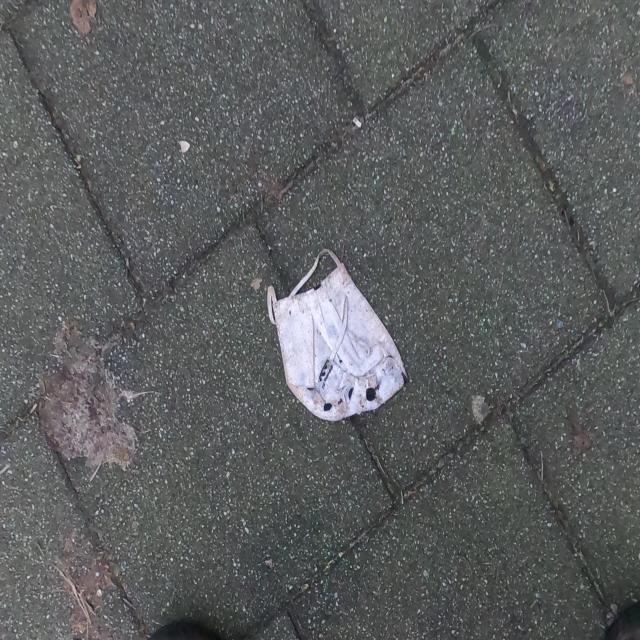Mask: (264, 246, 412, 424)
